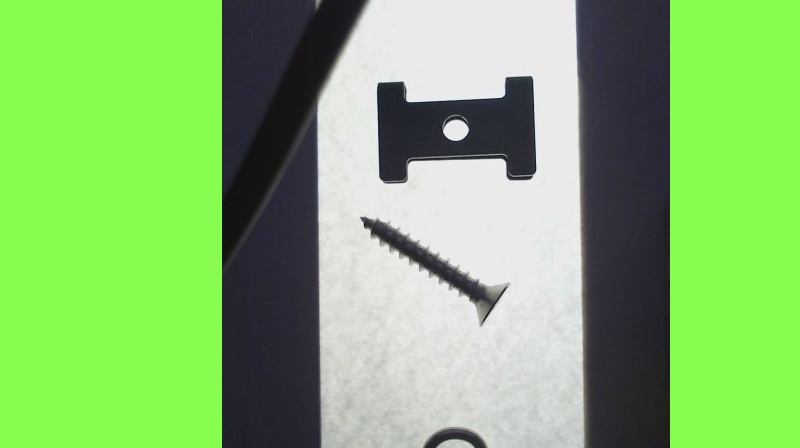O001: (380, 424, 490, 447)
O002: (376, 71, 536, 183)
S001: (359, 215, 513, 325)
